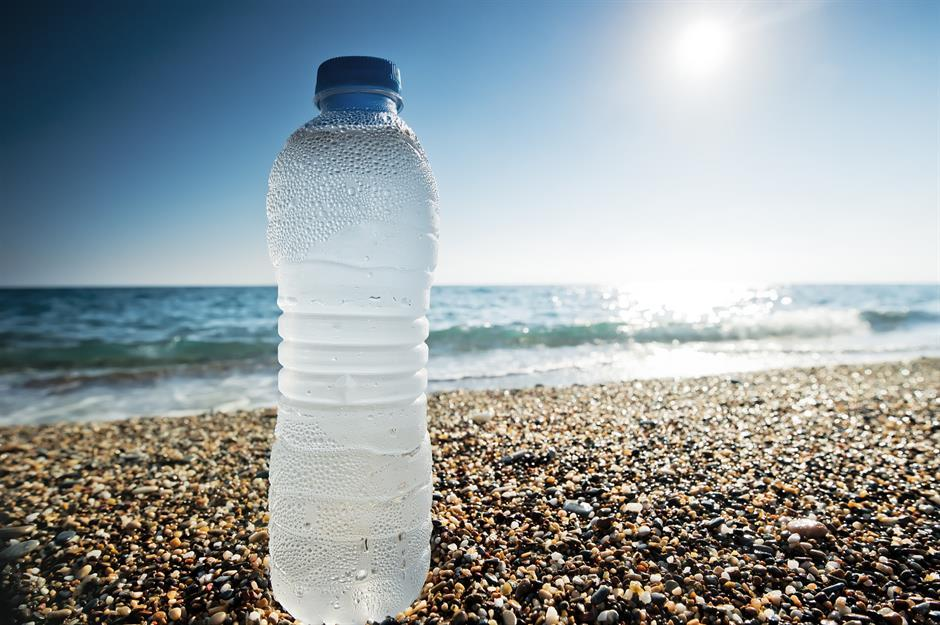bottle: (259, 27, 448, 625)
